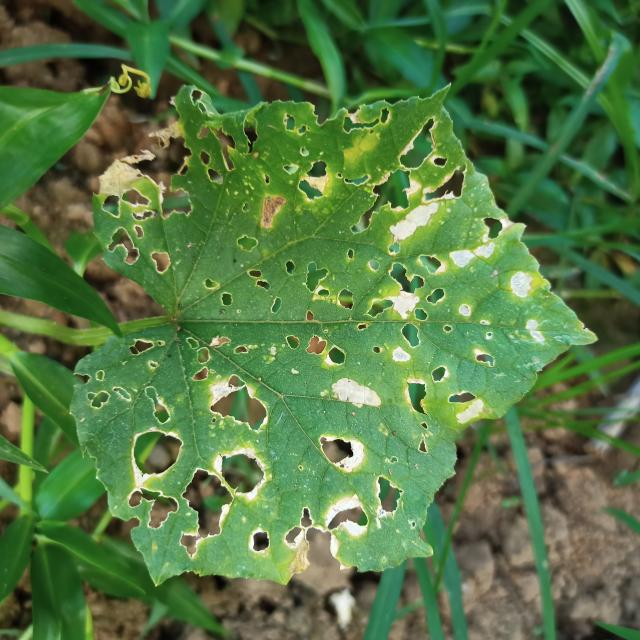disease_cucumber: (97, 135, 534, 562)
